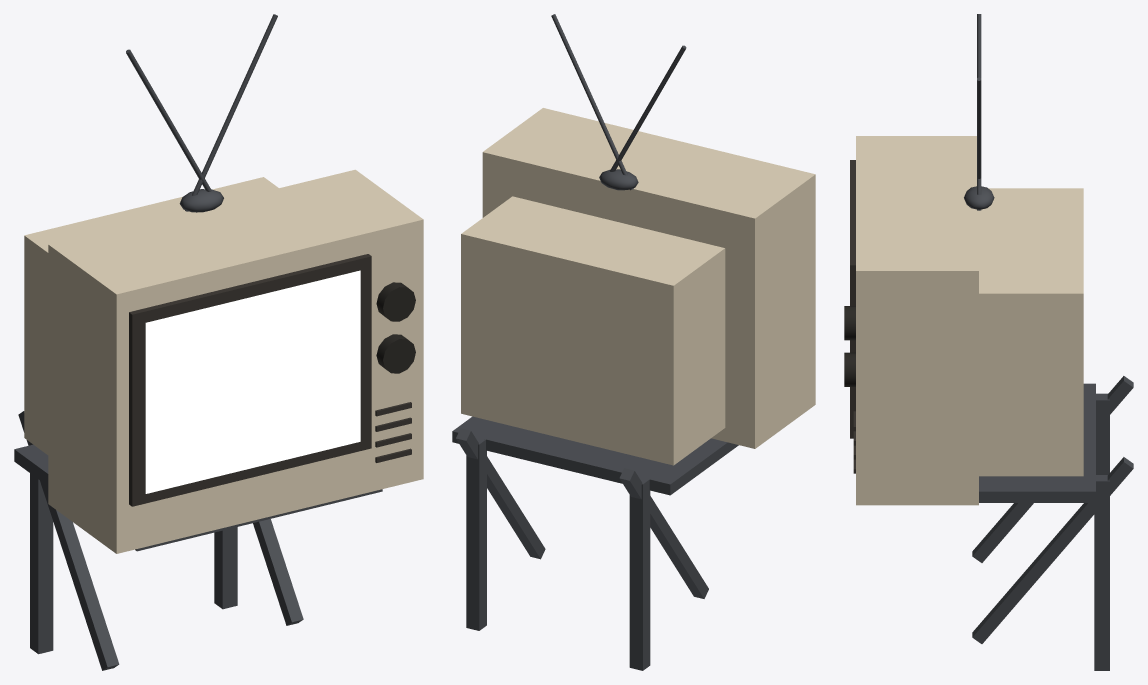
File: ti_vi_bit.glb
The picture shows the model from 3 angles, left to right: view 1: azimuth 30°, elevation 25°; view 2: azimuth 150°, elevation 25°; view 3: azimuth 270°, elevation 25°; orthographic projection. The views are drawn at different scales.
Visible parts, largest first — view 1: vo, man_hinh; view 2: vo; view 3: vo.
Part boxes in pixels (<box>): vo: <box>14,14,423,670</box>; man_hinh: <box>145,270,360,493</box>; vo: <box>452,14,815,670</box>; vo: <box>844,14,1133,670</box>.
Bounding box in the file's own units: 0.52 × 1.04 × 0.47.
